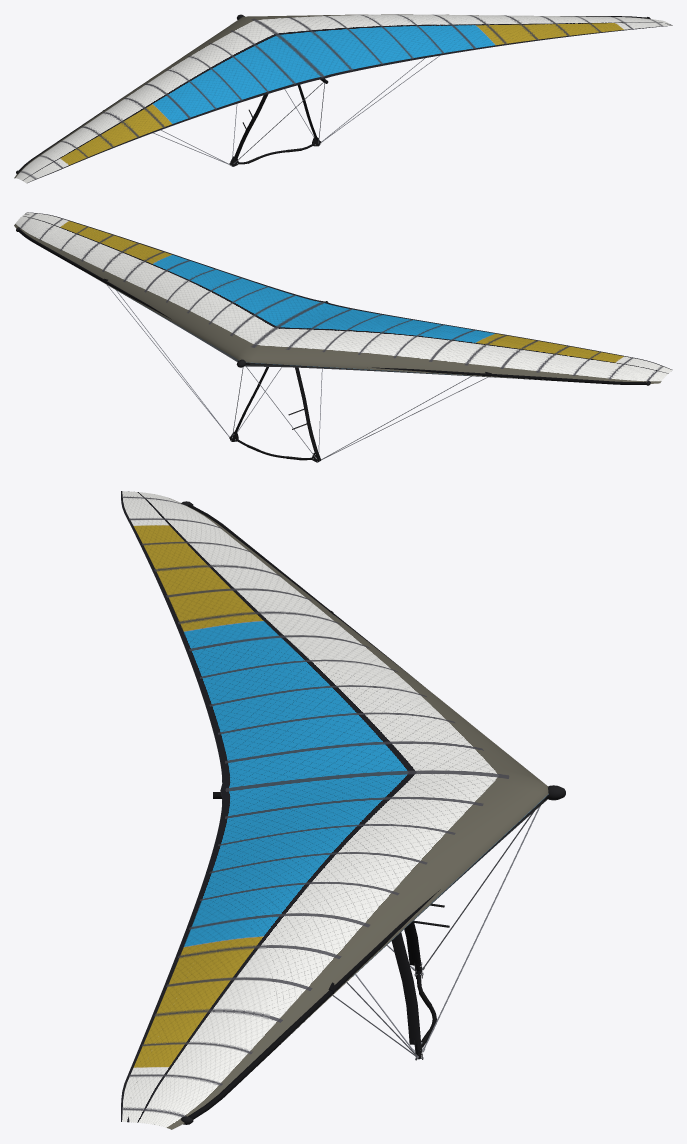
File: glider_ww_talon.glb
3 renders of one model, top to bottom at view 1: azimuth 30°, elevation 25°; view 2: azimuth 150°, elevation 25°; view 3: azimuth 270°, elevation 25°, orthographic. The views are drawn at different scales.
Parts seen in each view (by area): view 1: Sail, ControlFrame, Frame; view 2: Sail, ControlFrame, Frame; view 3: Sail, ControlFrame, Frame.
Part boxes in pixels (x1,y1,x2,y2): Sail: (14,14,672,183); ControlFrame: (153,55,439,166); Frame: (16,14,650,173); Sail: (14,212,672,383); ControlFrame: (107,285,487,462); Frame: (16,227,650,385); Sail: (121,491,548,1129); ControlFrame: (332,806,540,1060); Frame: (181,501,565,1124).
Bounding box in the file's own units: 10.34 × 1.93 × 3.08.
8 materials, 1 textured.
